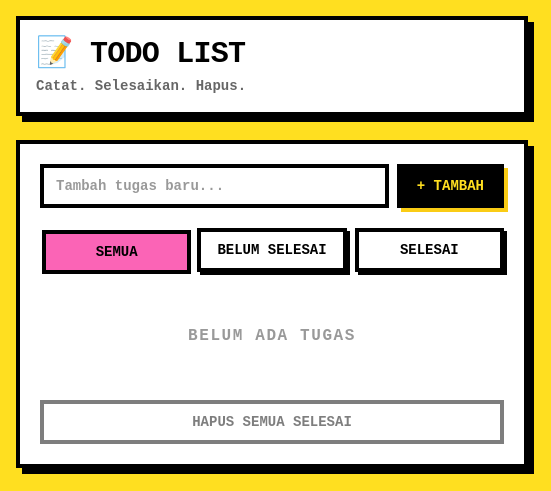
Test: App integration tests › add task flow: type title → submit → task appears in list
The width and height of the screenshot is (551, 491).
In the field named "judul tugas": (214, 186) [40,164,389,208], type "Beli susu"
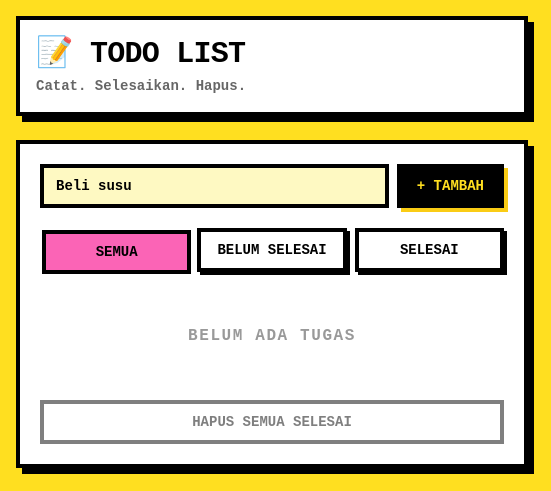
Click the button "+ Tambah": (450, 186) [397,164,504,208]
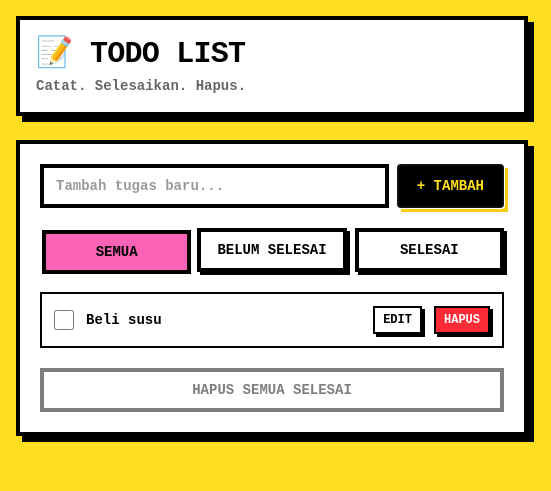
Expected: the text "Beli susu" is shown, [86,312,162,328]
